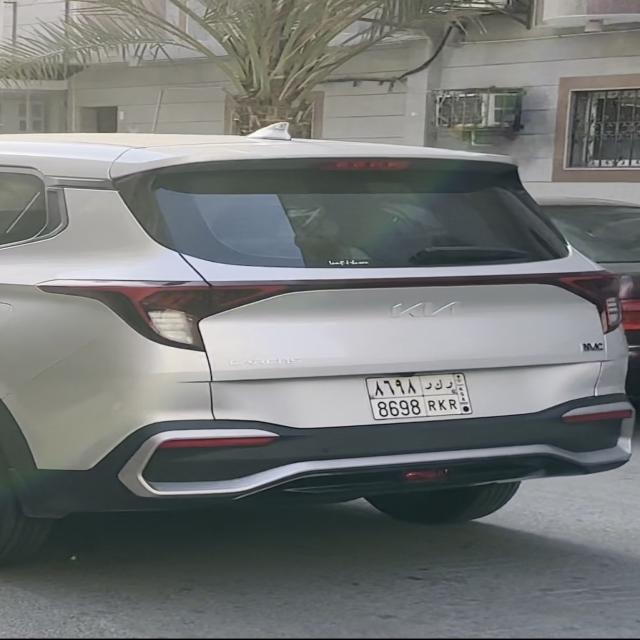Car-plate: (356, 368, 488, 427)
